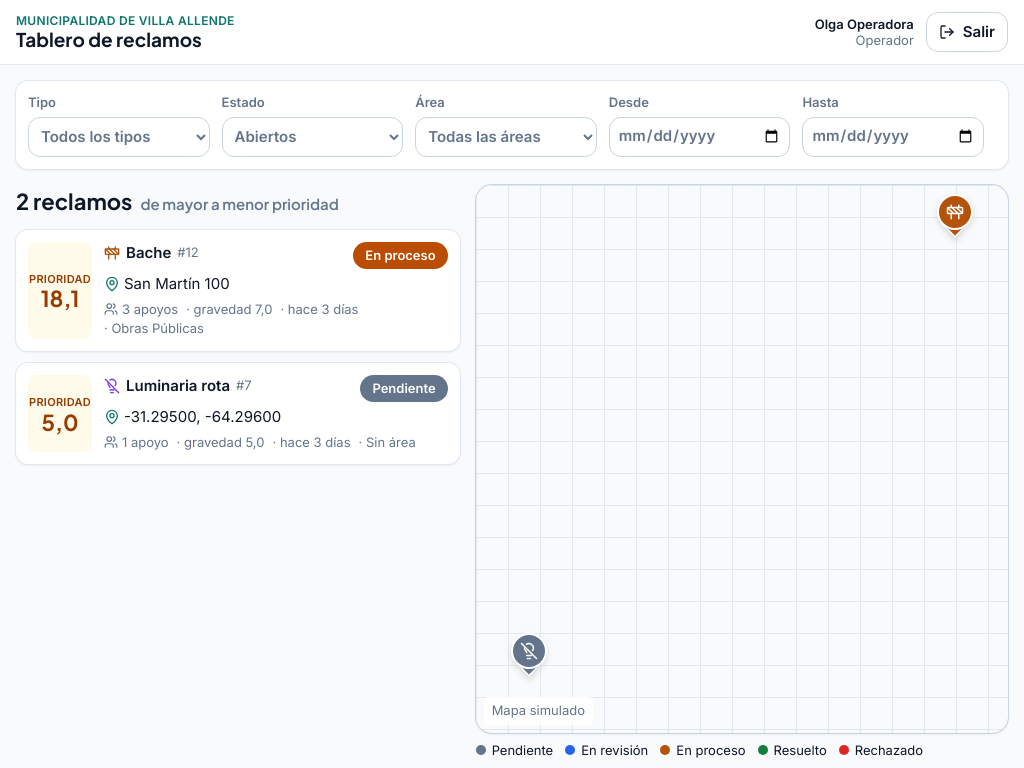
Scenario: Tablero (CU-07, CU-09) › muestra la cola por prioridad con sus datos y los mismos reclamos en el mapa
Expected: the heading "2 reclamos" is shown, [16, 186, 339, 214]
Expected: the 1st list item shows "18,1", [16, 230, 460, 350]
Click the button named "Reclamo #12: Bache" at point(955, 217), box [937, 194, 973, 239]
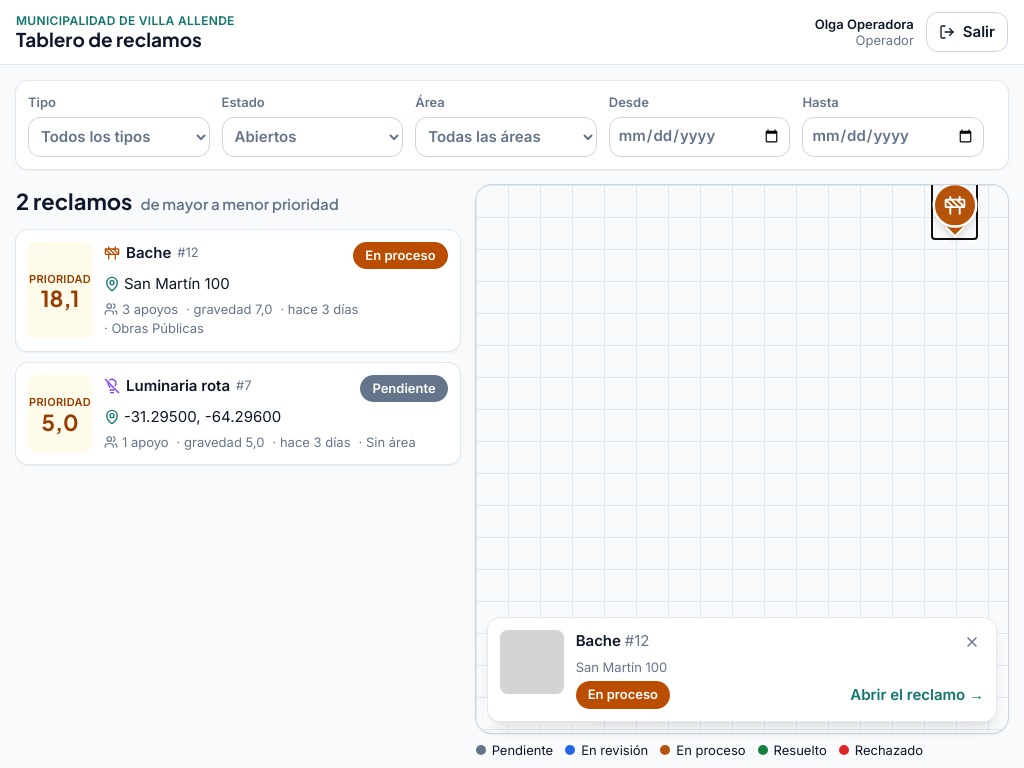
Click the button named "Cerrar" at point(972, 642), box [956, 626, 988, 658]
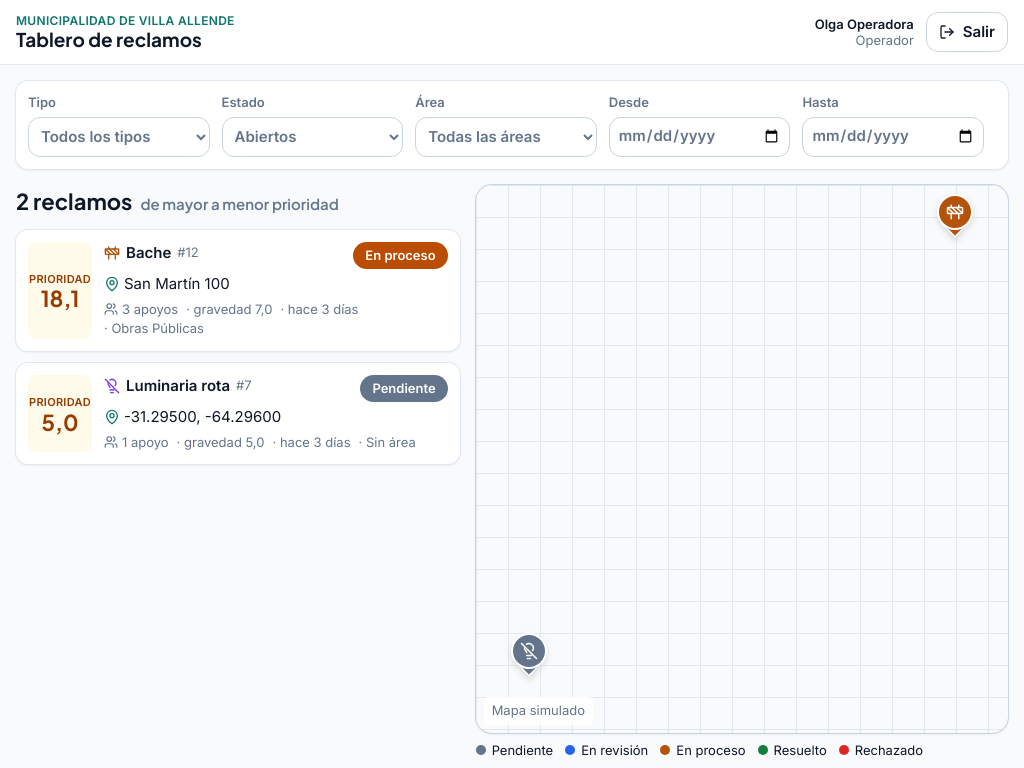
Result: the dialog is gone
